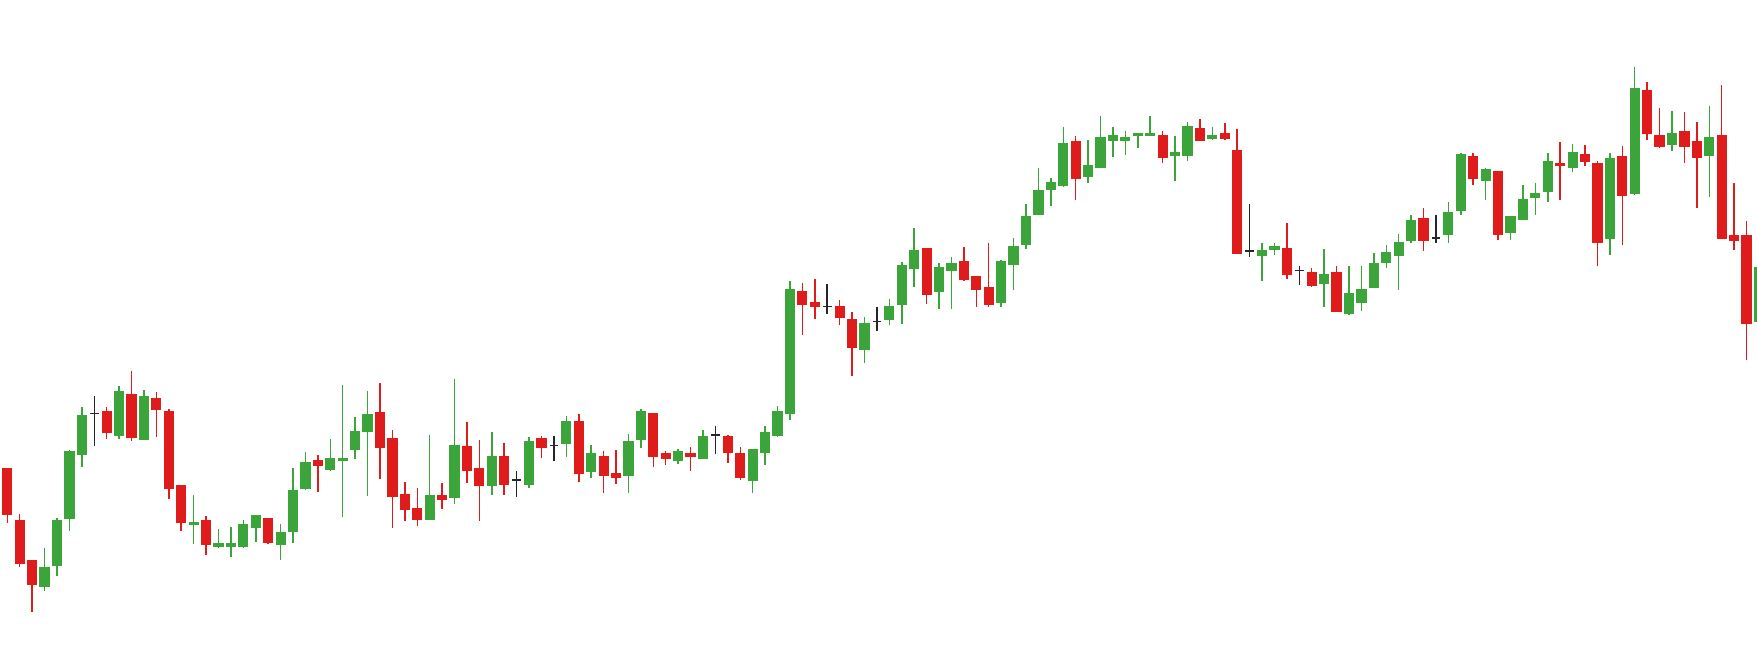buy: (1493, 168, 1617, 262)
